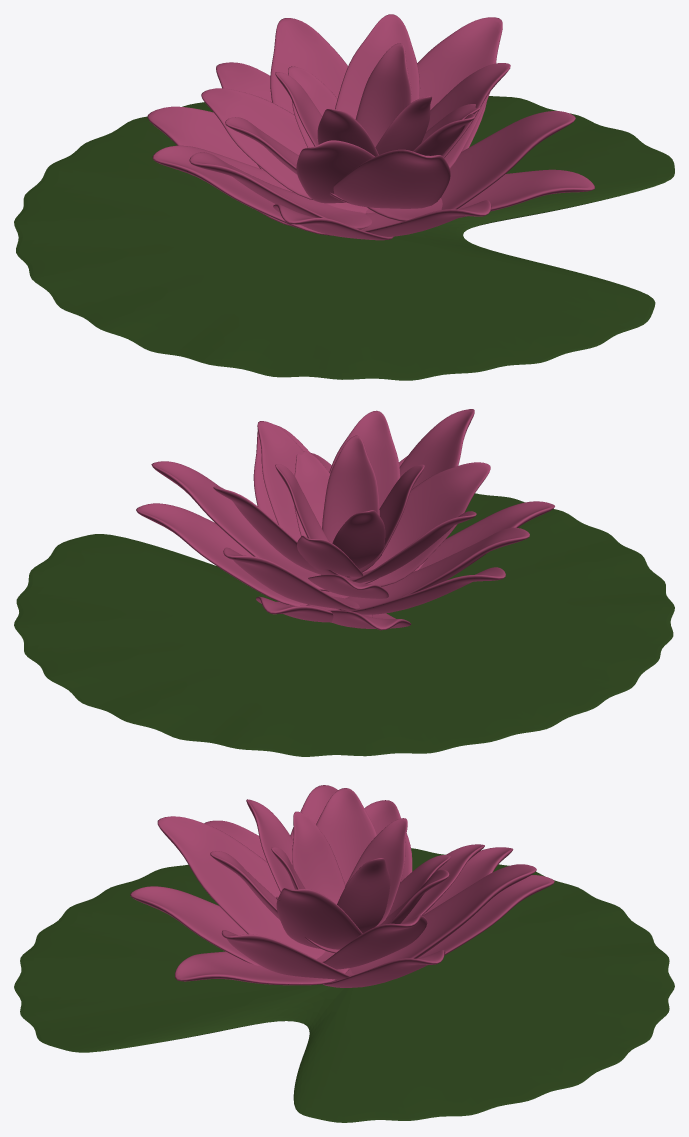
The model's file is lotus.fbx.
The picture shows the model from 3 angles, top to bottom: view 1: azimuth 30°, elevation 25°; view 2: azimuth 150°, elevation 25°; view 3: azimuth 270°, elevation 25°; orthographic projection. The views are drawn at different scales.
Visible parts, largest first — view 1: lotus leaf, Plane; view 2: lotus leaf, Plane; view 3: lotus leaf, Plane.
Part boxes in pixels (left/top/right/bottom): lotus leaf: left=14, top=96, right=674, bottom=380; Plane: left=147, top=14, right=594, bottom=240; lotus leaf: left=14, top=493, right=674, bottom=756; Plane: left=136, top=409, right=554, bottom=630; lotus leaf: left=14, top=848, right=674, bottom=1122; Plane: left=130, top=785, right=554, bottom=987.
Size of the model in its own units: 1176 by 308 by 1176.
